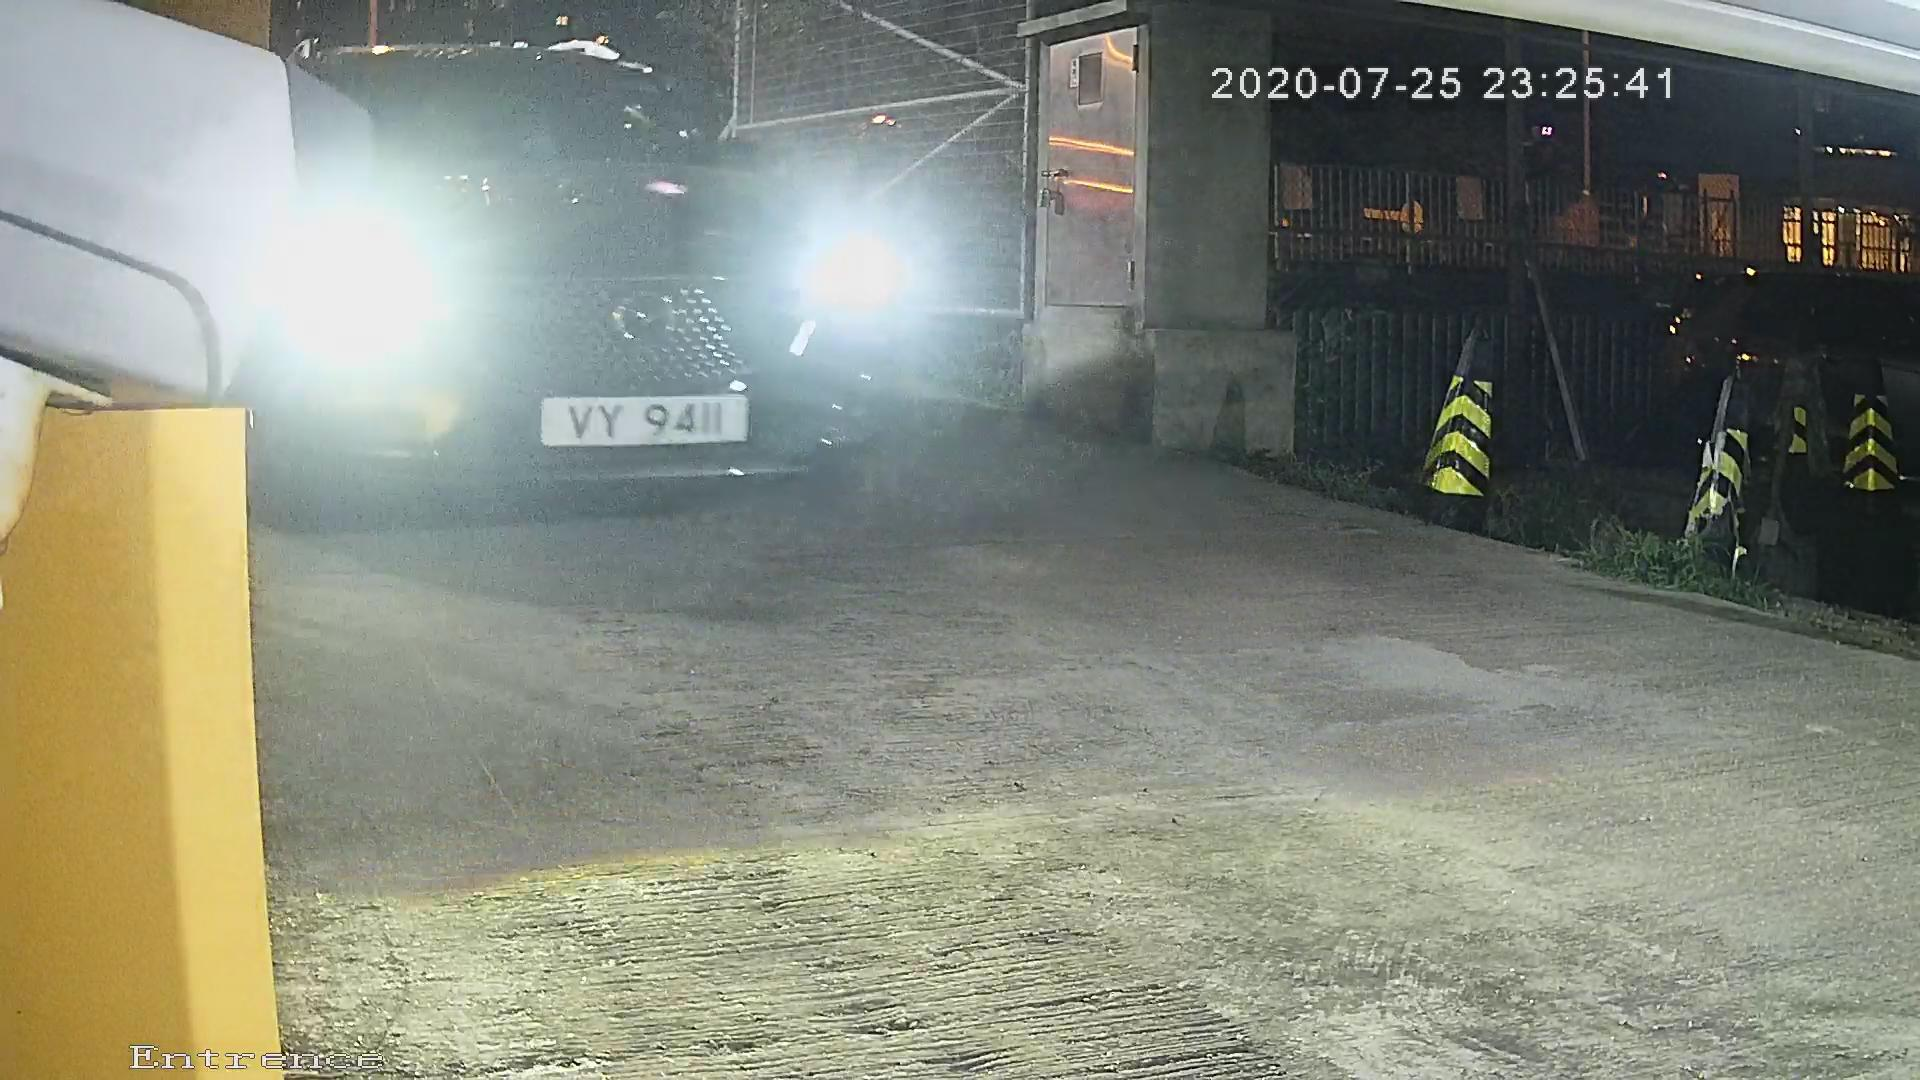privatecar: (198, 15, 978, 568)
